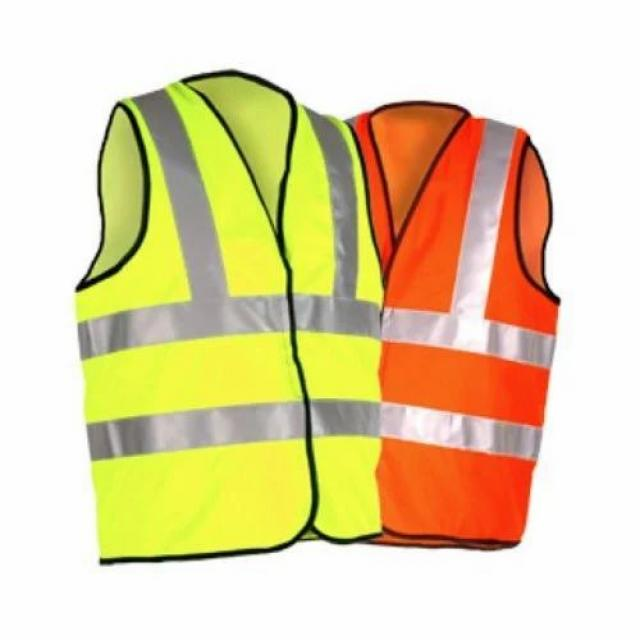Reflective-Jacket: (45, 73, 385, 563), (343, 97, 564, 559)
